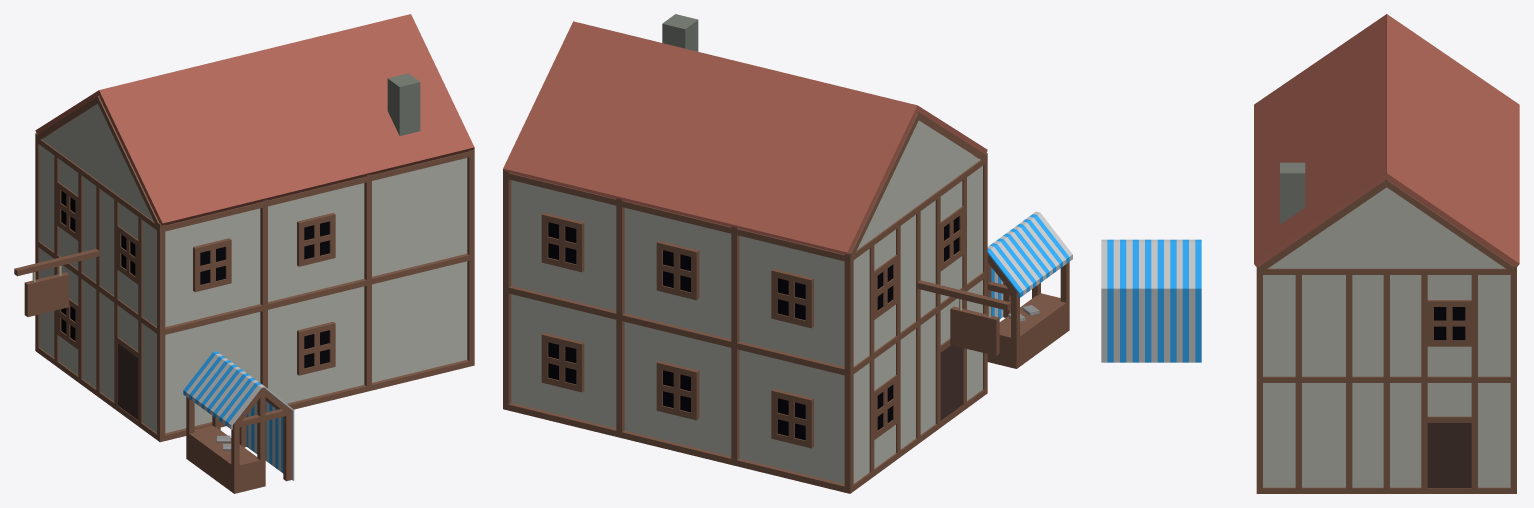
The model's file is timberframedclothier_blue_white.obj.
3 views of the same model, side by side, from view 1: azimuth 30°, elevation 25°; view 2: azimuth 150°, elevation 25°; view 3: azimuth 270°, elevation 25° (orthographic). The views are drawn at different scales.
Visible parts, largest first — view 1: Cube.005, Cube.007_Cube.011, Cube.011_Cube.015, Cube.018_Cube.016, Cube.026_Cube.019, Cube.006_Cube.010, Cube.001_Cube.058, Cube.056_Cube.081, Cube.013_Cube.080, Cube.055_Cube.059, Cube.147_Cube.153, Cube.012_Cube.017 (+24 smaller); view 2: Cube.005, Cube.007_Cube.011, Cube.023_Cube.026, Cube.022_Cube.025, Cube.021_Cube.024, Cube.028, Cube.019_Cube.022, Cube.017_Cube.021, Cube.014_Cube.018, Cube.008, Cube.015_Cube.020, Cube.020_Cube.023 (+23 smaller); view 3: Cube.005, Cube.007_Cube.011, Cube.147_Cube.153, Cube.003, Cube.033, Cube.016_Cube.013, Cube.031, Cube.032, Cube.012_Cube.017, Cube.027, Cube.046_Cube.048, Cube.047_Cube.049 (+6 smaller).
Boxes of the visible parts, x1,y1,x2,y2 form: Cube.005: [39, 104, 467, 433]; Cube.007_Cube.011: [35, 14, 474, 225]; Cube.011_Cube.015: [161, 253, 470, 334]; Cube.018_Cube.016: [161, 151, 469, 231]; Cube.026_Cube.019: [157, 223, 165, 442]; Cube.006_Cube.010: [387, 73, 420, 135]; Cube.001_Cube.058: [297, 321, 335, 375]; Cube.056_Cube.081: [193, 238, 231, 292]; Cube.013_Cube.080: [297, 213, 335, 266]; Cube.055_Cube.059: [163, 360, 473, 440]; Cube.147_Cube.153: [246, 401, 294, 480]; Cube.012_Cube.017: [467, 148, 474, 366]; Cube.005: [511, 120, 982, 483]; Cube.007_Cube.011: [503, 21, 987, 254]; Cube.023_Cube.026: [505, 403, 848, 493]; Cube.022_Cube.025: [504, 286, 848, 375]; Cube.021_Cube.024: [505, 173, 848, 261]; Cube.028: [844, 252, 853, 493]; Cube.019_Cube.022: [656, 361, 699, 420]; Cube.017_Cube.021: [541, 333, 584, 392]; Cube.014_Cube.018: [656, 241, 699, 300]; Cube.008: [541, 213, 584, 272]; Cube.015_Cube.020: [771, 269, 813, 328]; Cube.020_Cube.023: [771, 389, 813, 448]; Cube.005: [1263, 187, 1510, 487]; Cube.007_Cube.011: [1254, 14, 1519, 266]; Cube.147_Cube.153: [1101, 288, 1201, 362]; Cube.003: [1427, 423, 1471, 487]; Cube.033: [1427, 300, 1471, 346]; Cube.016_Cube.013: [1261, 376, 1511, 382]; Cube.031: [1261, 487, 1512, 493]; Cube.032: [1261, 268, 1512, 274]; Cube.012_Cube.017: [1256, 265, 1262, 493]; Cube.027: [1510, 265, 1516, 493]; Cube.046_Cube.048: [1346, 268, 1352, 490]; Cube.047_Cube.049: [1295, 268, 1301, 490].
Size of the model in its own units: 15.3 by 11.25 by 13.34.
